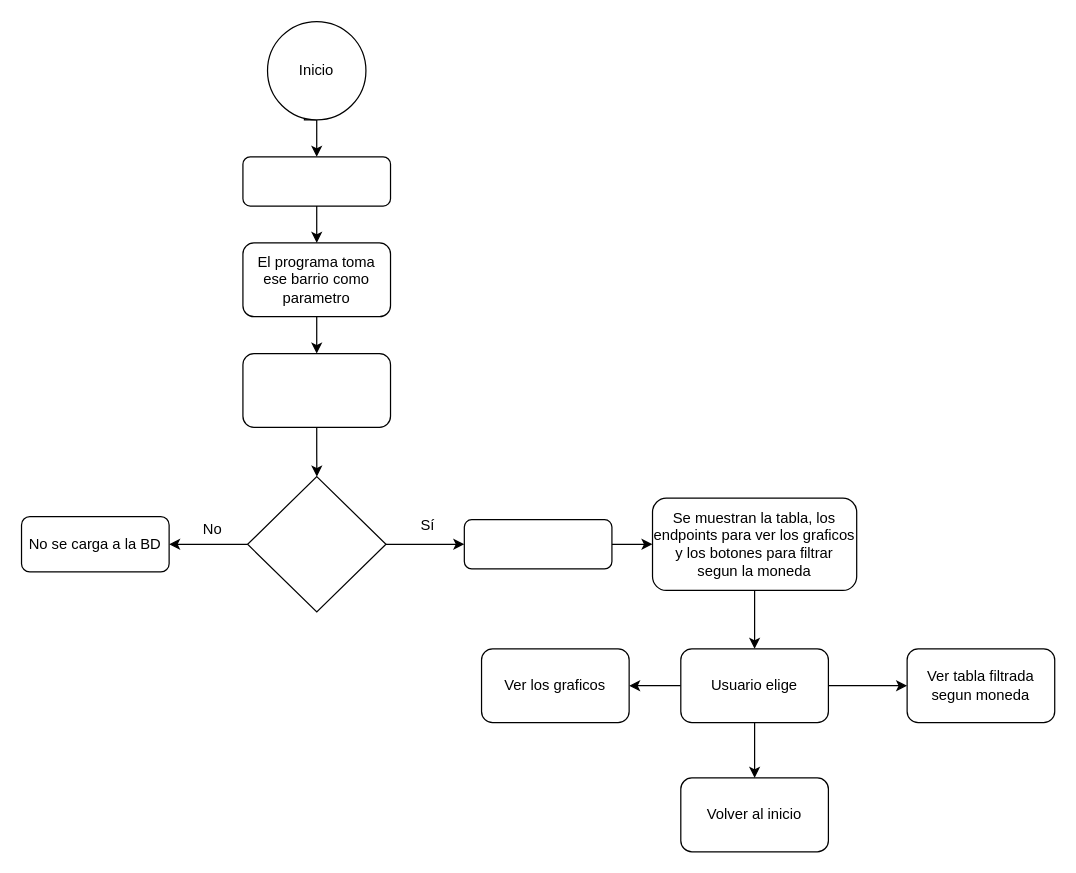
The diagram is 1076 pixels wide and 873 high, and some of its shapes have lost their labels. The shapes that lost their labels are listed below. From the top down, each one's centre as x and y in pixels, then its label:
At (x=316, y=181): "Usuario elige un barrio".
At (x=316, y=389): "Se consume la url de MercadoLibre".
At (x=316, y=543): "Coinciden con el barrio?".
At (x=537, y=543): "Se carga a la BD".
